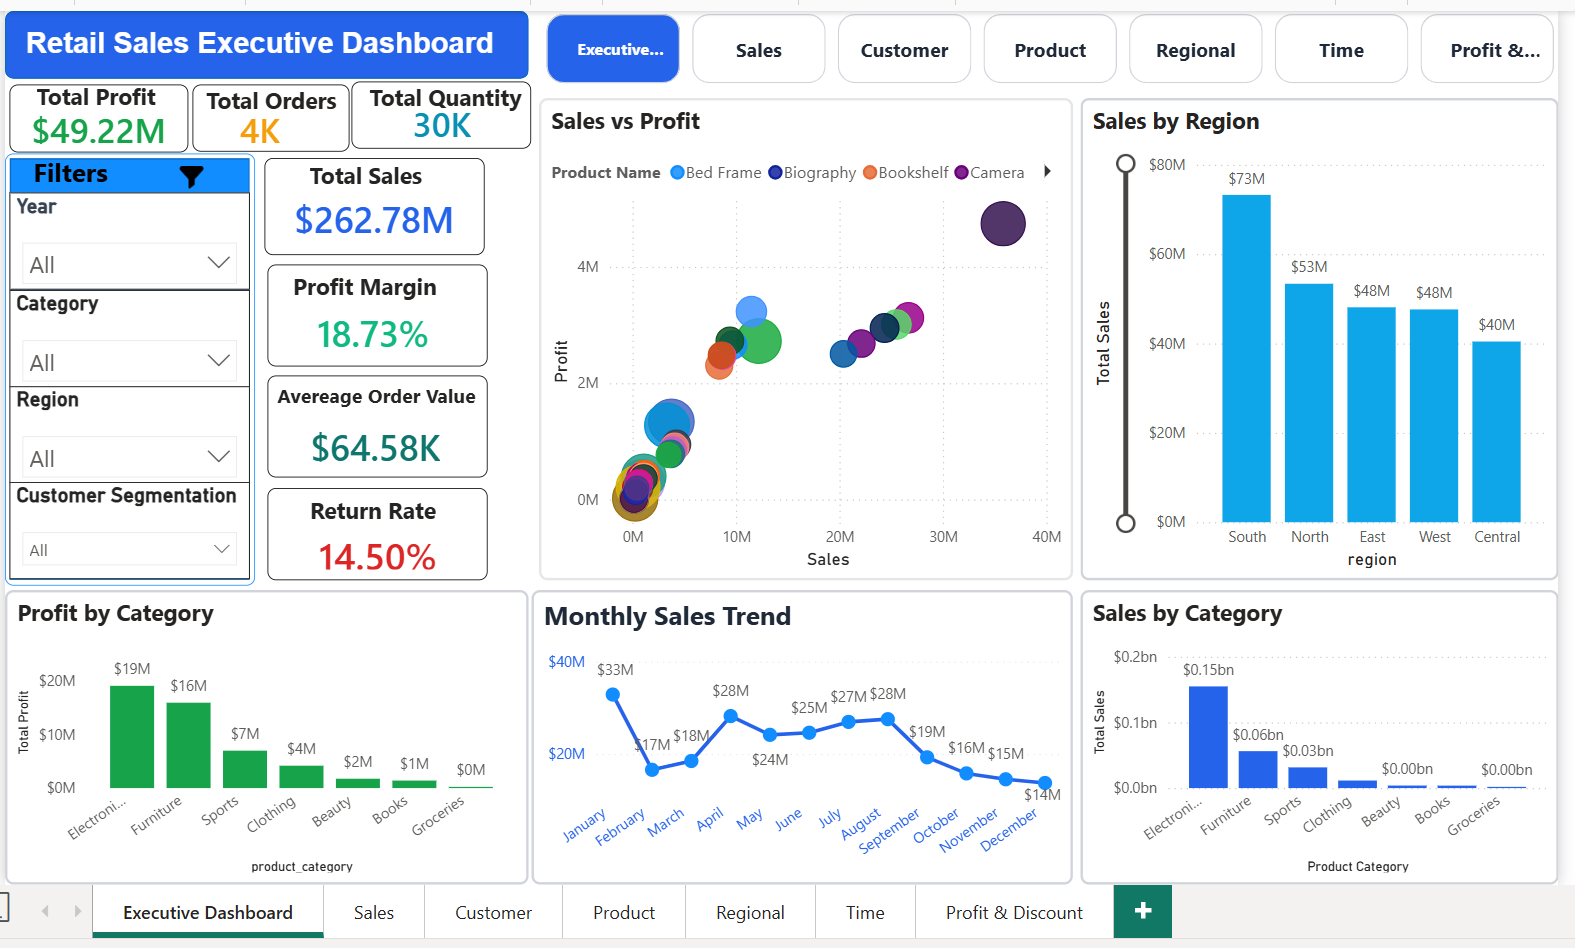

Layout of this report page (visuals, bound fields, positions):
{"tool":"powerbi","page":{"name":"Executive Dashboard","canvas":[1280,720],"ordinal":0},"visuals":[{"type":"cardVisual","title":"Total Sales","fields":{"Data":["Measures (2).Total Sales"]},"box":[224.3,144.3,158,51],"z":0},{"type":"cardVisual","title":"Total Profit ","fields":{"Data":["Measures (2).Total Profit"]},"box":[8.6,71.4,137,50],"z":1000},{"type":"cardVisual","title":"Total Orders","fields":{"Data":["Measures (2).Total Orders"]},"box":[172.9,71.4,74,50],"z":2000},{"type":"cardVisual","title":"Total Quantity","fields":{"Data":["Measures (2).Total Quantity"]},"box":[320,67.1,80,50],"z":5000},{"type":"cardVisual","title":"Average Order Value","fields":{"Data":["Measures (2).Average Order Value"]},"box":[222.9,332.9,165,51],"z":6000},{"type":"shape","box":[285.7,58.6,148,55],"z":6500},{"type":"cardVisual","title":"Profit Margin %","fields":{"Data":["Measures (2).Profit Margin %"]},"box":[231.4,238.6,144,51],"z":7000},{"type":"lineChart","title":"Monthly Sales Trend","fields":{"Category":["DateTable.Month"],"Y":["Measures (2).Total Sales"]},"box":[434.3,477.1,446,242.9],"z":9000},{"type":"clusteredColumnChart","title":"Sales by Category","fields":{"Category":["retail_sales_final.product_category"],"Y":["Measures (2).Total Sales"]},"box":[885.7,477.1,394.3,242.9],"z":10000},{"type":"shape","box":[0,117.1,205.7,355.7],"z":11000},{"type":"shape","box":[4.3,60,147,55.7],"z":12000},{"type":"slicer","title":"Year","fields":{"Values":["DateTable.Year"]},"box":[4.3,150,198,80],"z":13000},{"type":"columnChart","title":"Sales by Region","fields":{"Category":["retail_sales_final.region"],"Y":["Measures (2).Total Sales"]},"box":[885.7,71.4,394.3,397.1],"z":14000},{"type":"slicer","title":"Region","fields":{"Values":["retail_sales_final.region"]},"box":[4.3,308.6,198,80],"z":15000},{"type":"slicer","title":"Category","fields":{"Values":["retail_sales_final.product_category"]},"box":[4.3,230,198,80],"z":16000},{"type":"slicer","title":"Customer Segmentation","fields":{"Values":["retail_sales_final.customer_segment"]},"box":[4.3,388.6,198,80],"z":17000},{"type":"clusteredColumnChart","title":"Profit by Category","fields":{"Category":["retail_sales_final.product_category"],"Y":["Measures (2).Total Profit"]},"box":[0,477.1,431.4,242.9],"z":18000},{"type":"shape","box":[0,0,431.4,55.7],"z":19000},{"type":"textbox","box":[0,7.1,420,38.6],"z":20000},{"type":"textbox","box":[0,112.9,108,38.3],"z":21000},{"type":"image","box":[108.6,124.3,90,23],"z":22000},{"type":"cardVisual","title":"Return Rate","fields":{"Data":["Measures (2).Return Rate"]},"box":[232.9,420,150,52],"z":23500},{"type":"shape","box":[215.7,392.9,181.4,75.7],"z":24000},{"type":"shape","box":[214.3,121.4,181.4,80],"z":25000},{"type":"shape","box":[154.3,60,129,55],"z":26000},{"type":"textbox","box":[245.7,117.1,114,38],"z":27000},{"type":"textbox","box":[21.4,51.4,112,35],"z":28000},{"type":"textbox","box":[157.1,55.7,125,36],"z":29000},{"type":"textbox","box":[300,58.6,130,28],"z":30000},{"type":"shape","box":[215.7,208.6,181,84],"z":32000},{"type":"shape","box":[215.7,300,181,84],"z":33000},{"type":"textbox","box":[232.9,208.6,140,41.7],"z":34000},{"type":"textbox","box":[217.1,300,177.1,53],"z":35000},{"type":"textbox","box":[244.3,392.9,122,35],"z":36000},{"type":"scatterChart","title":"Sales vs Profit","fields":{"Series":["retail_sales_final.product_name"],"Size":["Sum(retail_sales_final.quantity)"],"X":["Sum(retail_sales_final.sales_amount)"],"Y":["Sum(retail_sales_final.profit)"]},"box":[440,71.4,440,397.1],"z":37000},{"type":"pageNavigator","box":[445.7,2.9,834.3,57.1],"z":38000}]}

Visuals, with their boxes on the page's 1280x720 design canvas (x1, y1, x2, y2). These are canvas units, not pixel positions in the 1575x948 screenshot, which may show the page scaled, cropped or inside an application window:
"Total Sales" cardVisual: bbox=(224, 144, 382, 195)
"Total Profit " cardVisual: bbox=(9, 71, 146, 121)
"Total Orders" cardVisual: bbox=(173, 71, 247, 121)
"Total Quantity" cardVisual: bbox=(320, 67, 400, 117)
"Average Order Value" cardVisual: bbox=(223, 333, 388, 384)
shape: bbox=(286, 59, 434, 114)
"Profit Margin %" cardVisual: bbox=(231, 239, 375, 290)
"Monthly Sales Trend" lineChart: bbox=(434, 477, 880, 720)
"Sales by Category" clusteredColumnChart: bbox=(886, 477, 1280, 720)
shape: bbox=(0, 117, 206, 473)
shape: bbox=(4, 60, 151, 116)
"Year" slicer: bbox=(4, 150, 202, 230)
"Sales by Region" columnChart: bbox=(886, 71, 1280, 468)
"Region" slicer: bbox=(4, 309, 202, 389)
"Category" slicer: bbox=(4, 230, 202, 310)
"Customer Segmentation" slicer: bbox=(4, 389, 202, 469)
"Profit by Category" clusteredColumnChart: bbox=(0, 477, 431, 720)
shape: bbox=(0, 0, 431, 56)
textbox: bbox=(0, 7, 420, 46)
textbox: bbox=(0, 113, 108, 151)
image: bbox=(109, 124, 199, 147)
"Return Rate" cardVisual: bbox=(233, 420, 383, 472)
shape: bbox=(216, 393, 397, 469)
shape: bbox=(214, 121, 396, 201)
shape: bbox=(154, 60, 283, 115)
textbox: bbox=(246, 117, 360, 155)
textbox: bbox=(21, 51, 133, 86)
textbox: bbox=(157, 56, 282, 92)
textbox: bbox=(300, 59, 430, 87)
shape: bbox=(216, 209, 397, 293)
shape: bbox=(216, 300, 397, 384)
textbox: bbox=(233, 209, 373, 250)
textbox: bbox=(217, 300, 394, 353)
textbox: bbox=(244, 393, 366, 428)
"Sales vs Profit" scatterChart: bbox=(440, 71, 880, 468)
pageNavigator: bbox=(446, 3, 1280, 60)
